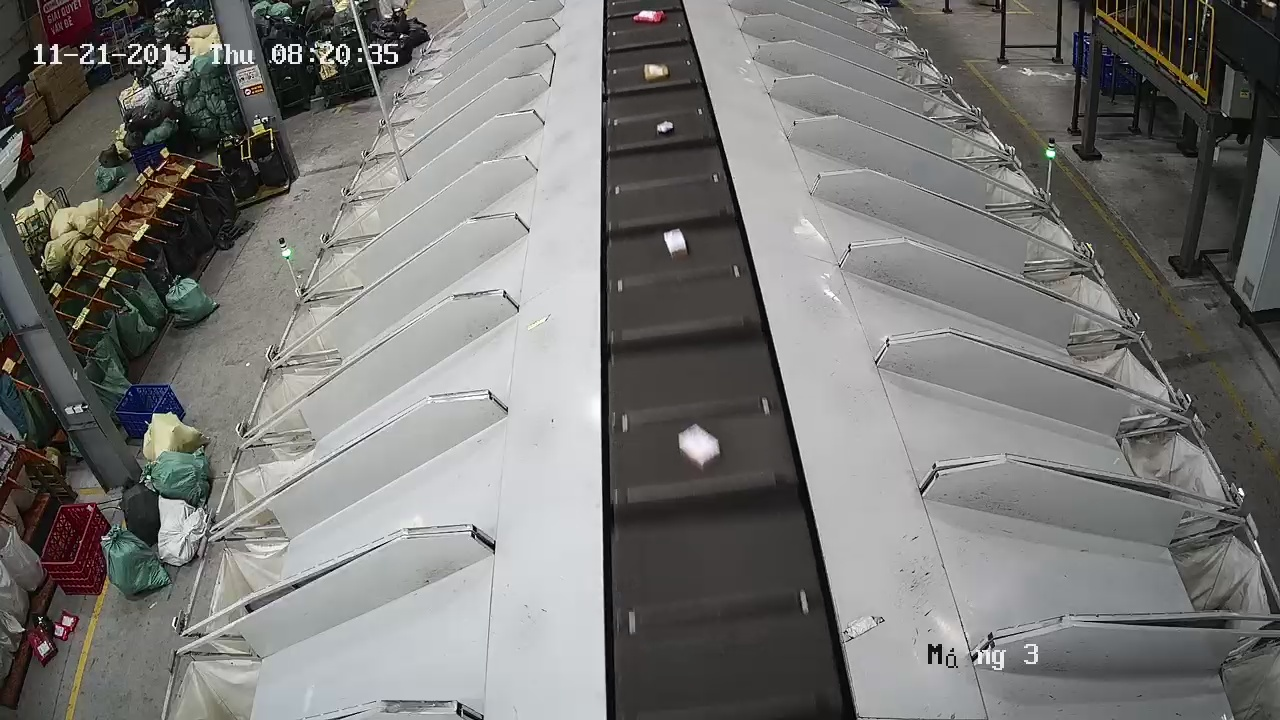parcel: (678, 423, 722, 473)
